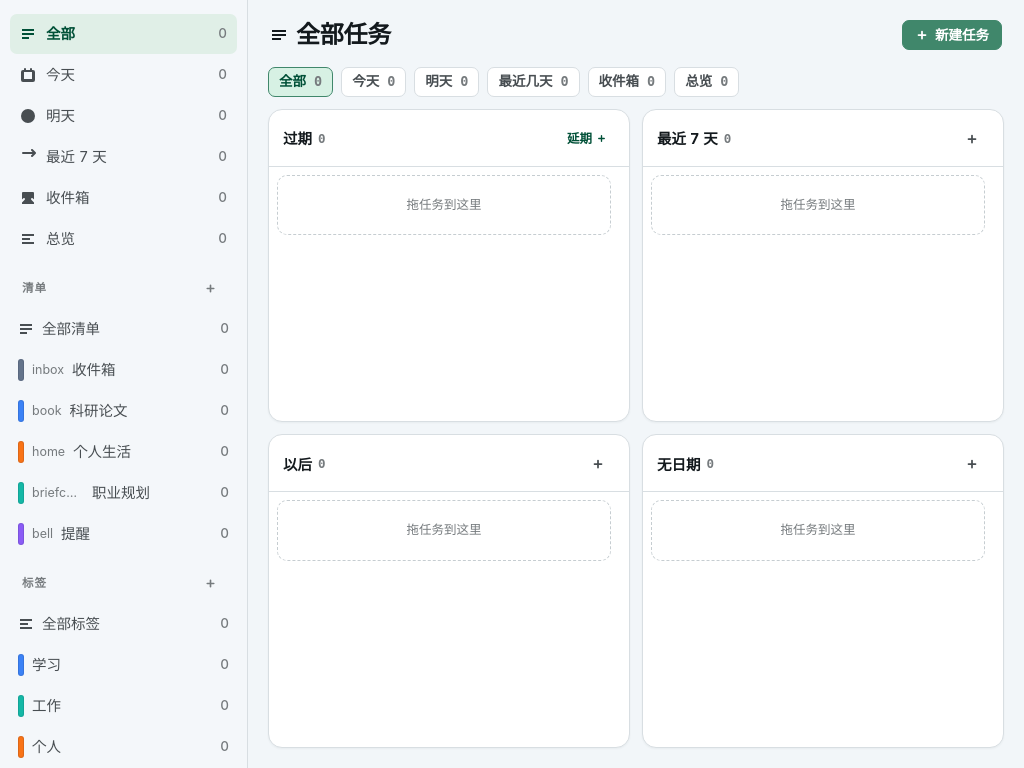
Test case: TasksModule — T-EMPTY-2 board-level empty state ZH (D-QT) › T-EMPTY-2b: ZH lang + today filter + empty overdue bucket → ZH 'No overdue tasks' (D-QT)
Click the 2nd text with class "grow": (60, 75) [46,66,75,84]
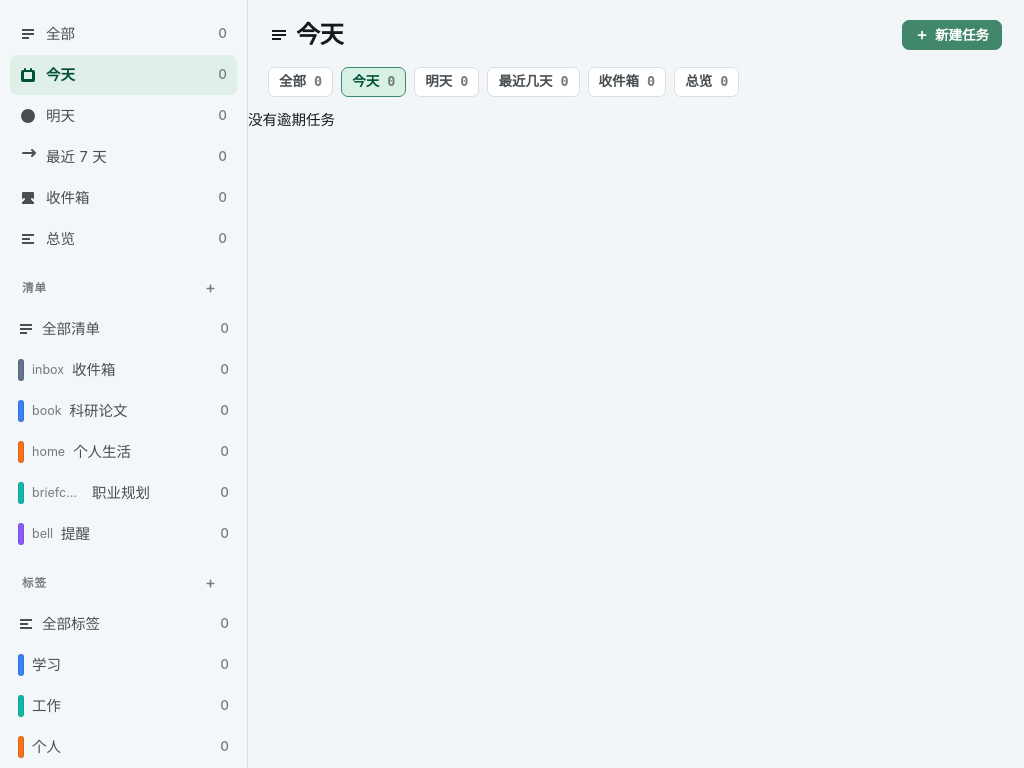
Expected: the message with class "tasks-board-empty" reads "没有逾期任务", [248,111,335,128]
